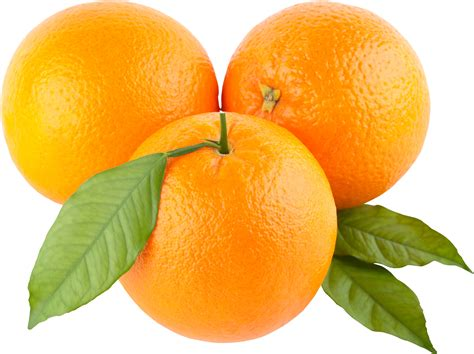orange: (93, 104, 337, 345), (217, 1, 434, 217), (1, 1, 221, 210)
